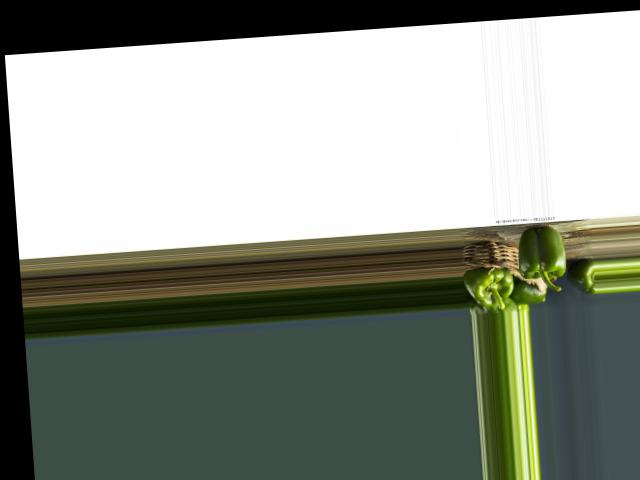bell_pepper: (575, 264, 597, 294)
